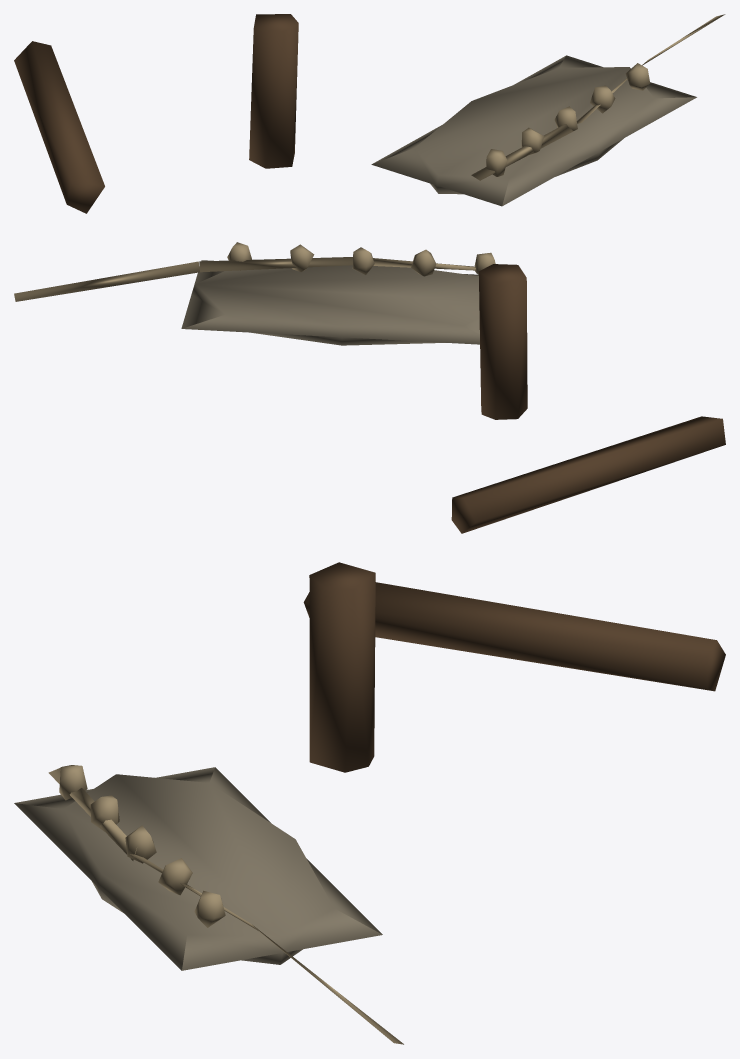
The model's file is knot_board_b_lod2.glb.
3 renders of one model, top to bottom at view 1: azimuth 30°, elevation 25°; view 2: azimuth 150°, elevation 25°; view 3: azimuth 270°, elevation 25°, orthographic. The views are drawn at different scales.
Parts seen in each view (by area): view 1: Surface.001; view 2: Surface.001; view 3: Surface.001.
Boxes of the visible parts, box(x1,y1,x2,y2) form: Surface.001: box(14, 14, 725, 213); Surface.001: box(14, 242, 725, 533); Surface.001: box(14, 562, 725, 1044).
Size of the model in its own units: 1.83 by 0.35 by 1.24.
